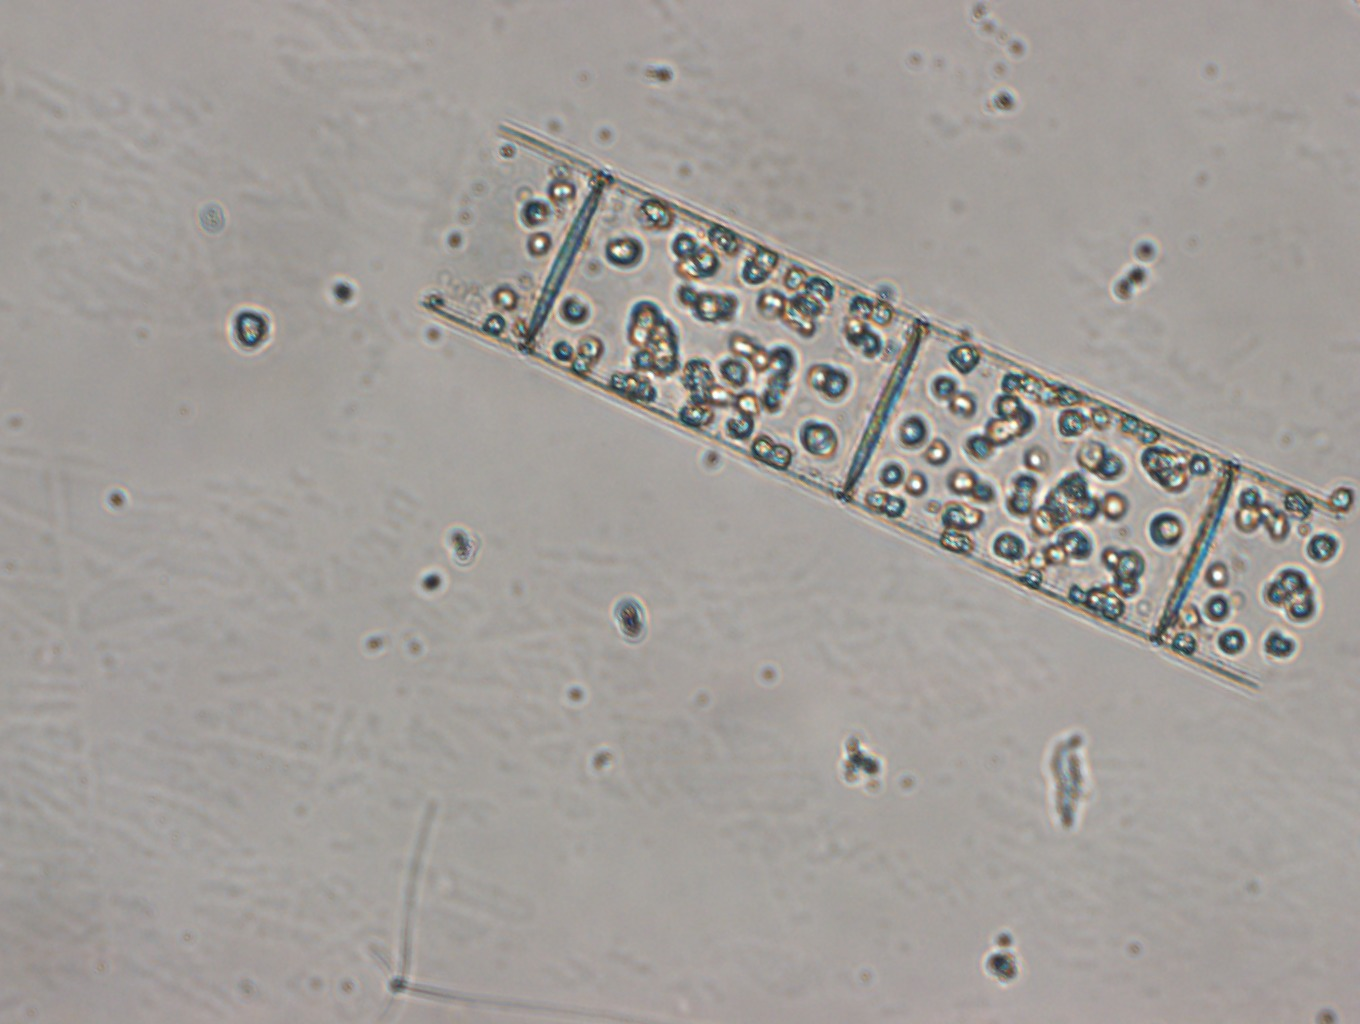guinardia flaccida: (416, 120, 1357, 689)
